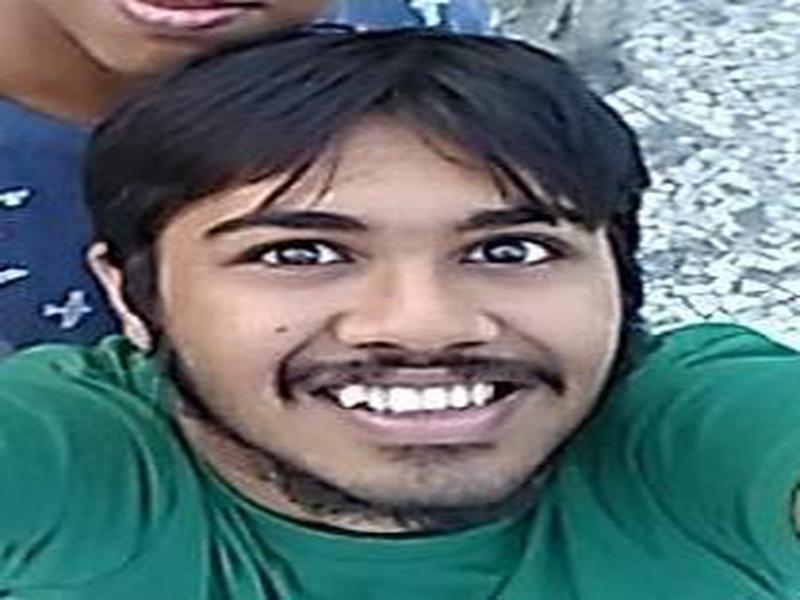without_mask: (156, 182, 621, 516)
